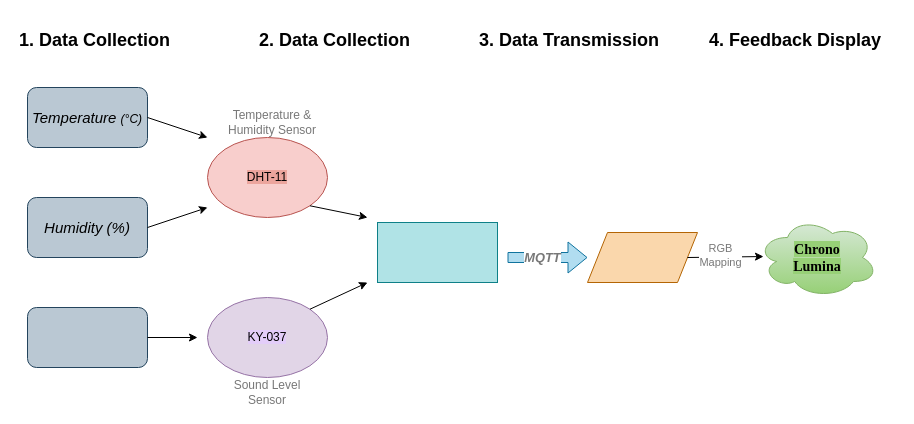
This 914x424 diagram has some shape labels left out. Here are the shapes that lost their labels. From the top down, the centre of each, then its label:
At point (437, 252): "Arduino MKR1010".
At point (642, 257): "WiFi".
At point (87, 337): "Sound level".
